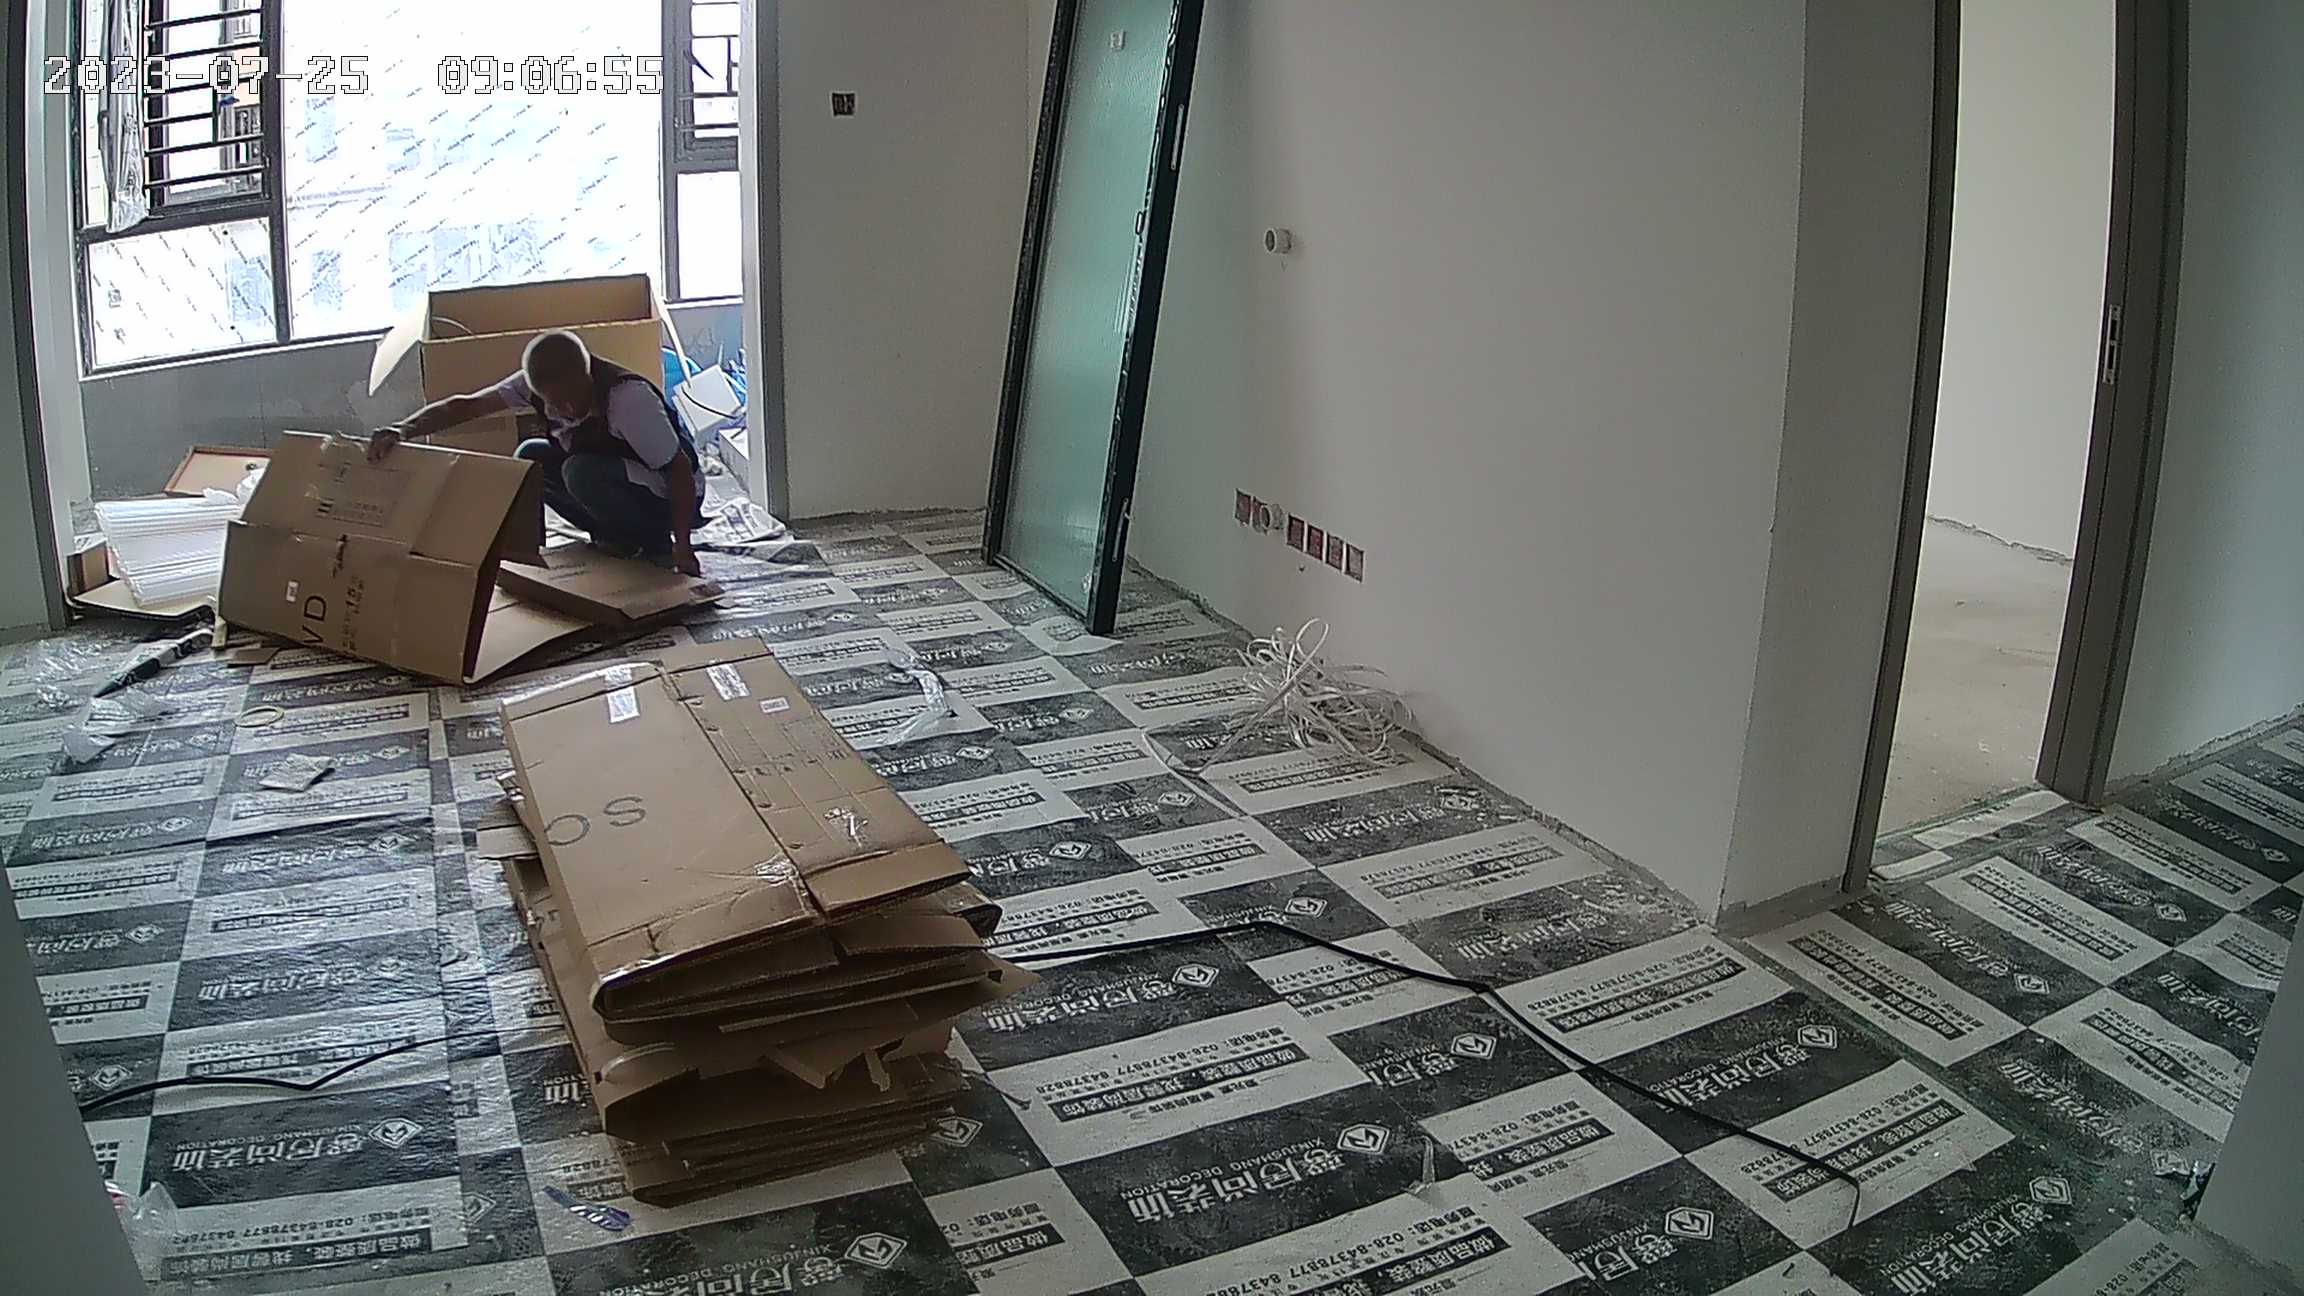people: (368, 331, 714, 579)
window: (66, 5, 749, 321)
